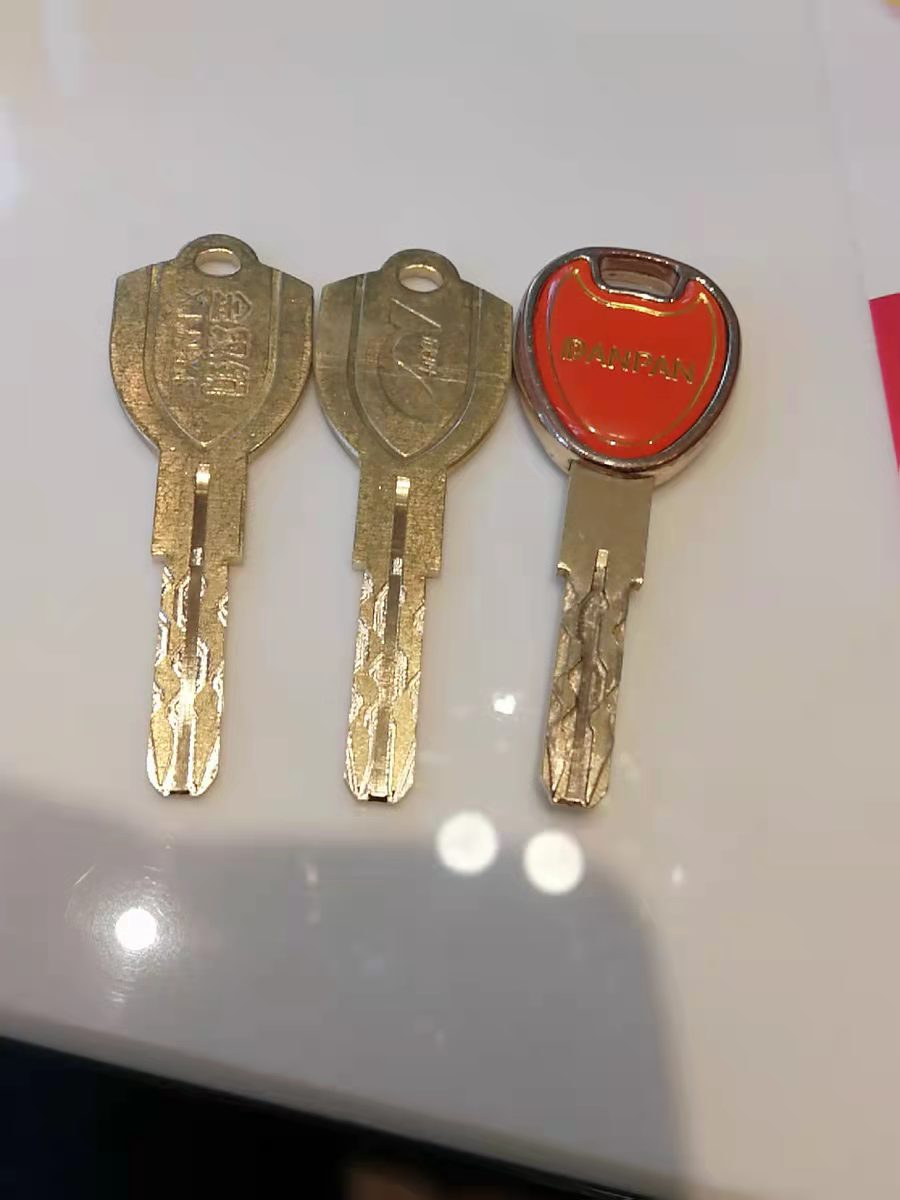key: (472, 231, 751, 822), (86, 227, 333, 813), (293, 261, 522, 811)
